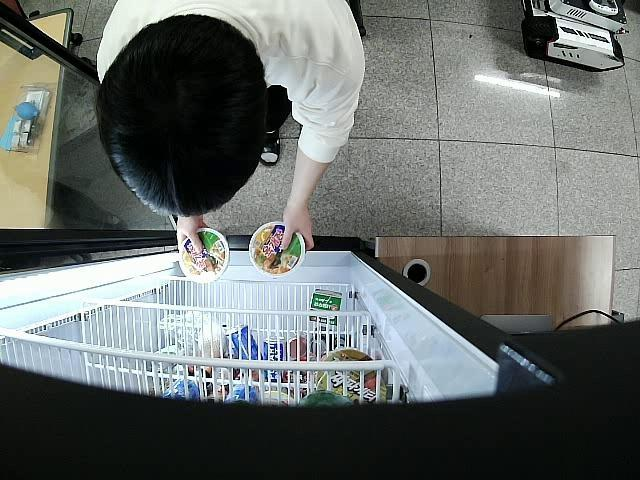09_yukGaeJang: (251, 221, 306, 280), (178, 228, 230, 286)
